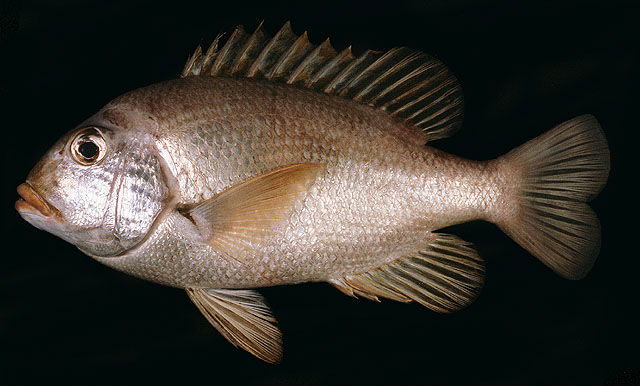fish: (15, 21, 614, 366)
